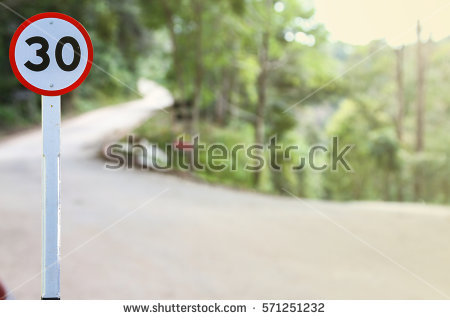Speed_limit_30km: (9, 12, 95, 96)
